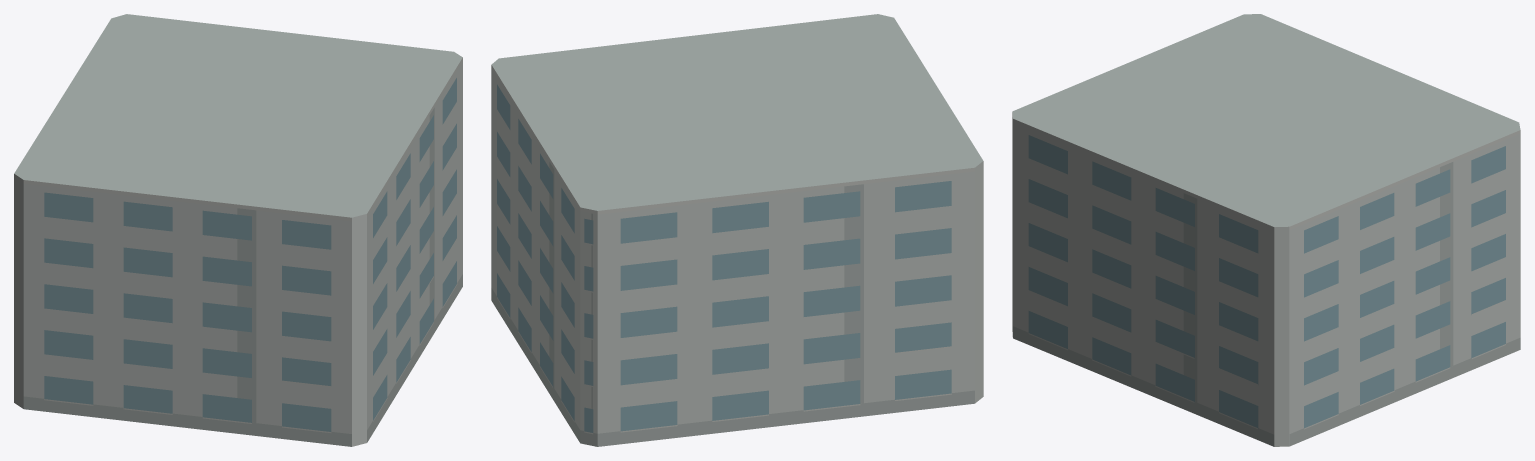
The model's file is survey-upis-32645694.glb.
3 renders of one model, left to right at view 1: azimuth 30°, elevation 25°; view 2: azimuth 150°, elevation 25°; view 3: azimuth 270°, elevation 25°, orthographic. The views are drawn at different scales.
Parts seen in each view (by area): view 1: survey-upis-32645694.tmp; view 2: survey-upis-32645694.tmp; view 3: survey-upis-32645694.tmp.
Boxes of the visible parts, x1,y1,x2,y2 form: survey-upis-32645694.tmp: [14, 14, 462, 446]; survey-upis-32645694.tmp: [491, 14, 983, 446]; survey-upis-32645694.tmp: [1012, 14, 1520, 446].
Size of the model in its own units: 31.73 by 15.25 by 31.96.
